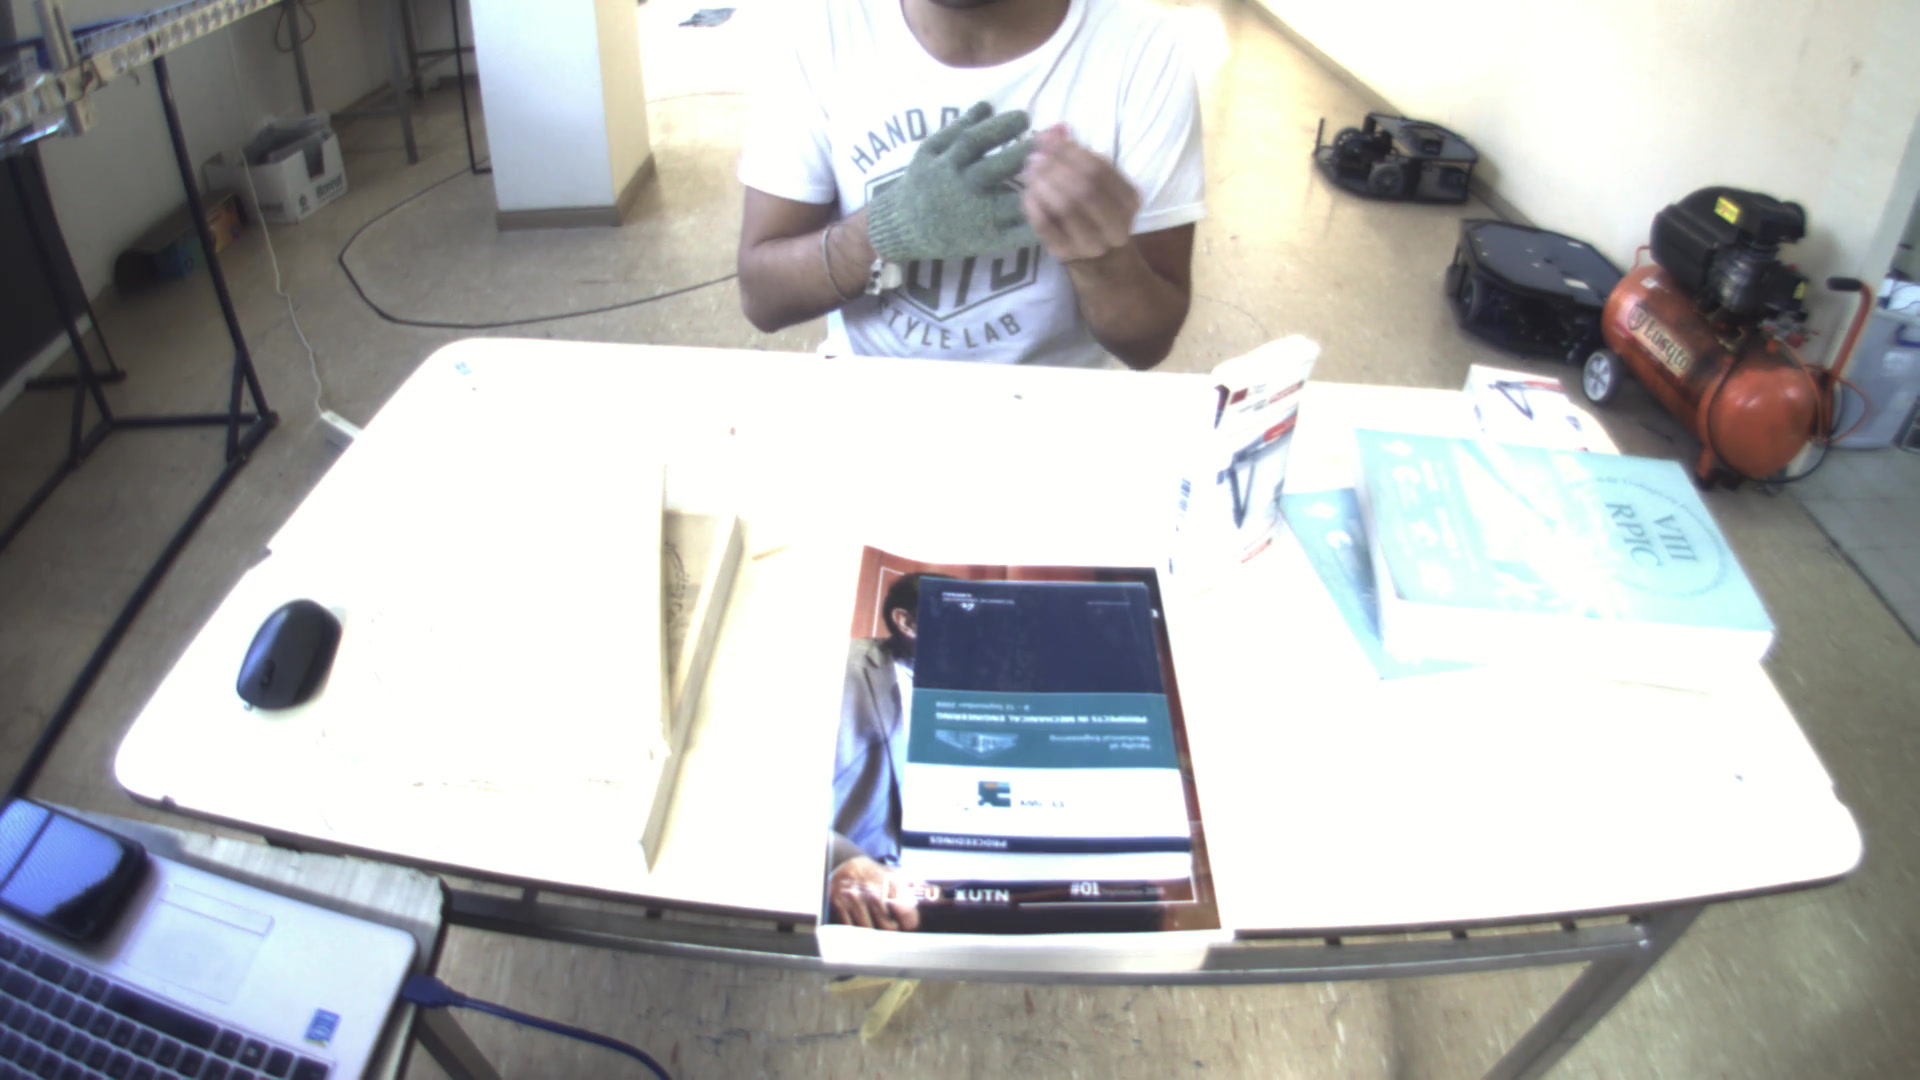hand: (855, 91, 1052, 266), (1013, 125, 1145, 256)
